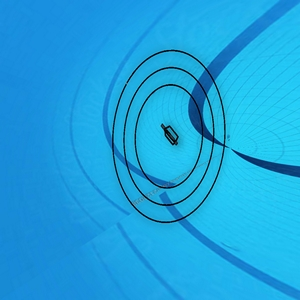circle: (107, 49, 227, 226)
submarine: (158, 121, 178, 144)
